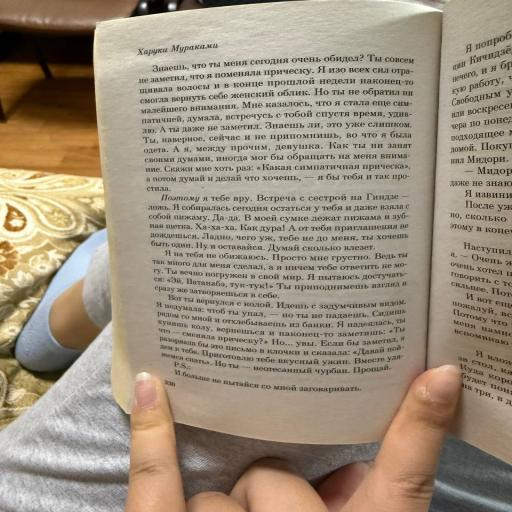bed: (95, 0, 512, 462)
